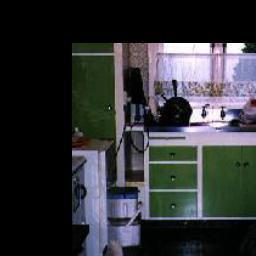Lavaplatos: (197, 106, 232, 127)
